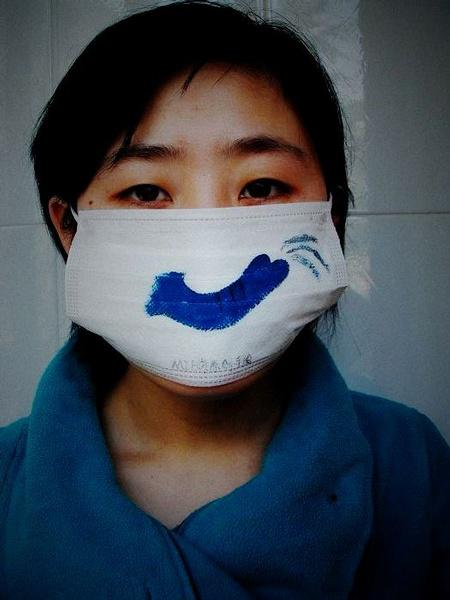OK: (89, 130, 349, 390)
